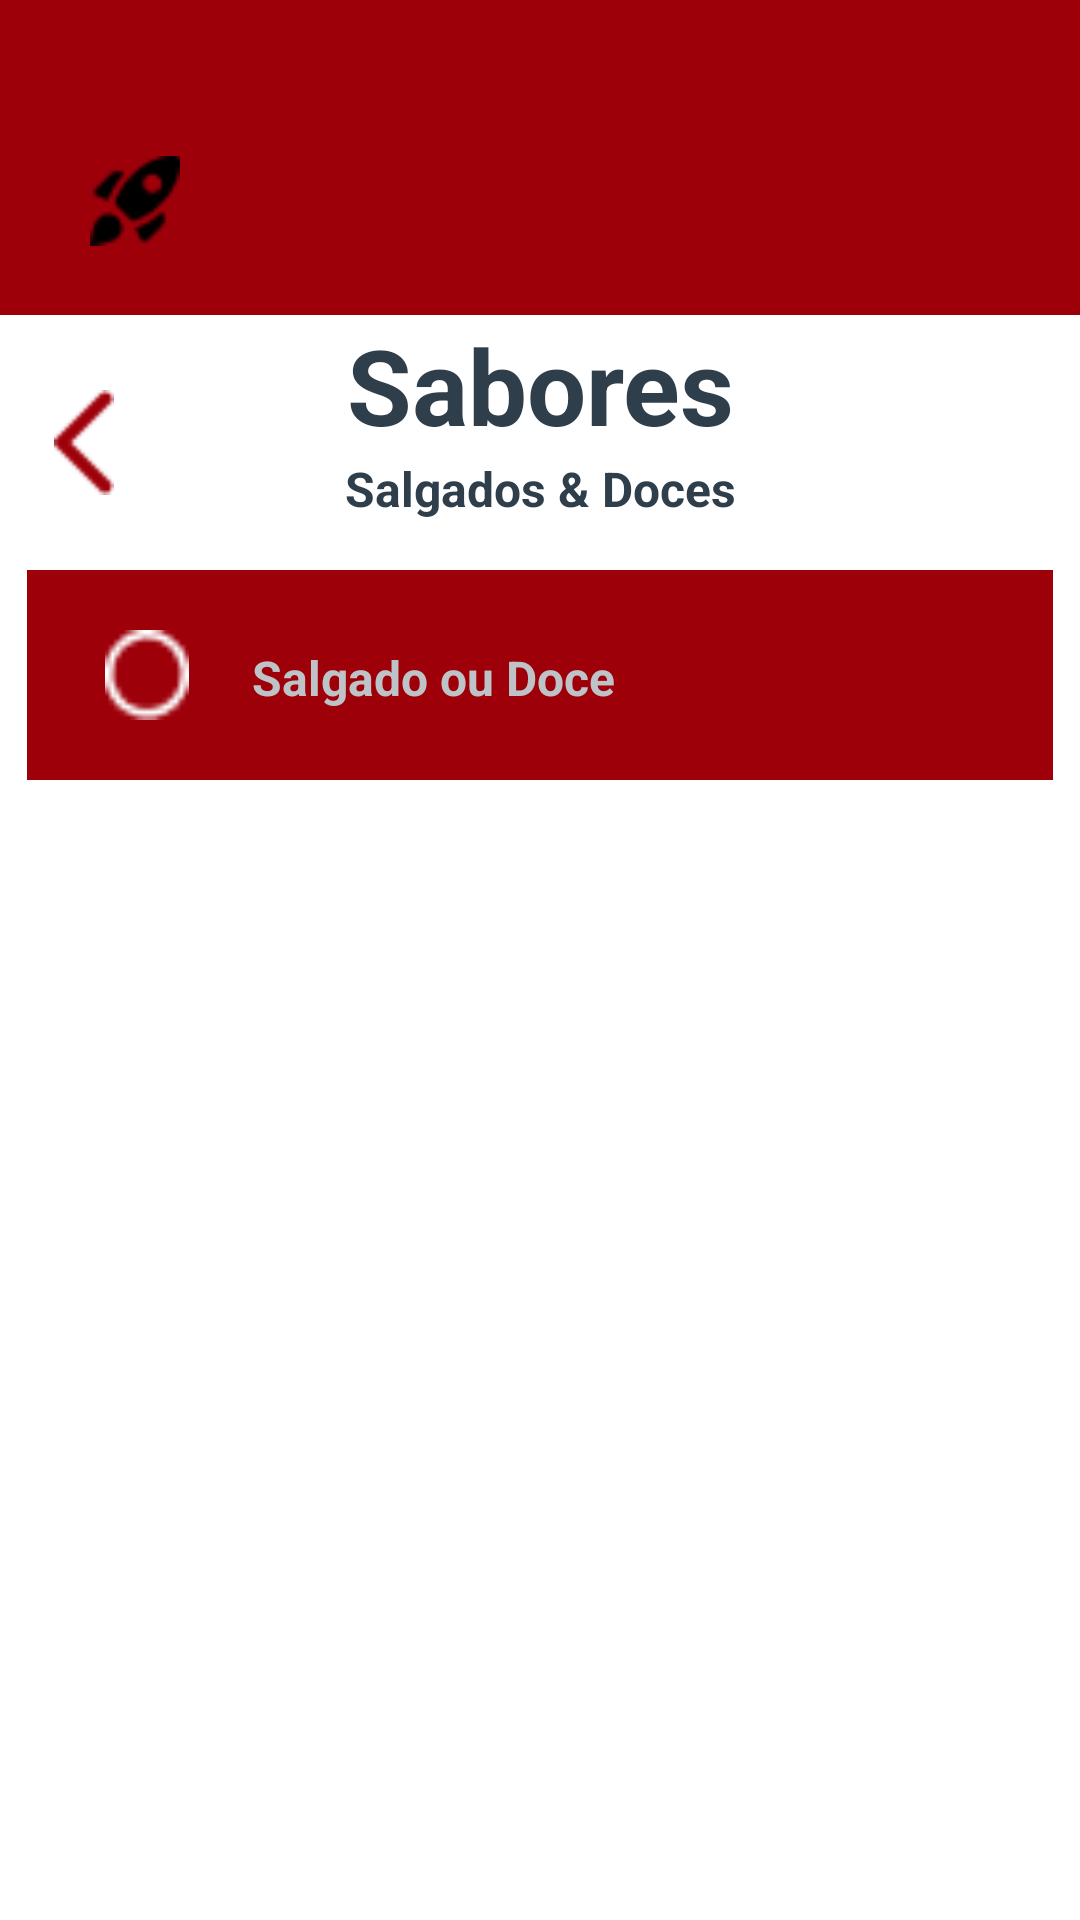

Icon bounding boxes for this 1080x1920 phone screenshot, format bbox(x1, y1, x2, y2):
rocket: bbox(90, 156, 180, 246)
unfilled: bbox(105, 630, 189, 720)
